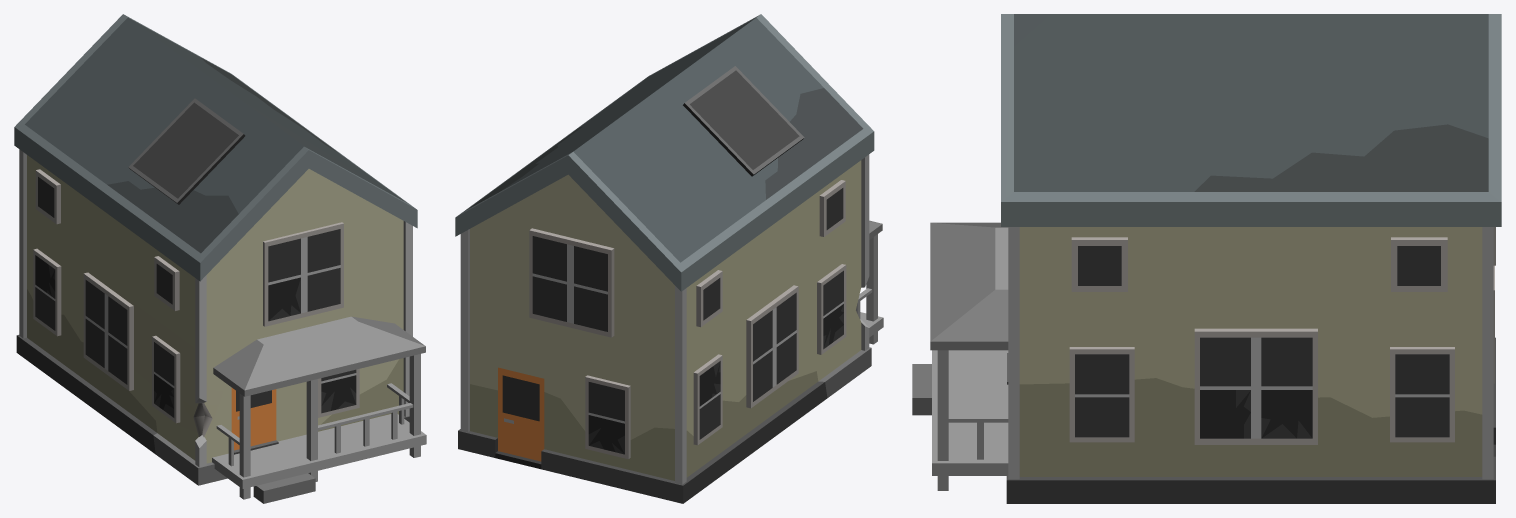
The model's file is SA_Bld_HouseTall_Damaged_04.gltf.
3 renders of one model, left to right at view 1: azimuth 30°, elevation 25°; view 2: azimuth 150°, elevation 25°; view 3: azimuth 270°, elevation 25°, orthographic. The views are drawn at different scales.
Parts seen in each view (by area): view 1: SA_Bld_HouseTall_Damaged_04; view 2: SA_Bld_HouseTall_Damaged_04; view 3: SA_Bld_HouseTall_Damaged_04.
Part boxes in pixels (x1=…): SA_Bld_HouseTall_Damaged_04: x1=14, y1=14, x2=426, y2=503; SA_Bld_HouseTall_Damaged_04: x1=455, y1=14, x2=883, y2=503; SA_Bld_HouseTall_Damaged_04: x1=912, y1=14, x2=1501, y2=503.
Size of the model in its own units: 10.63 by 14.52 by 18.52.
1 material, 1 textured.
